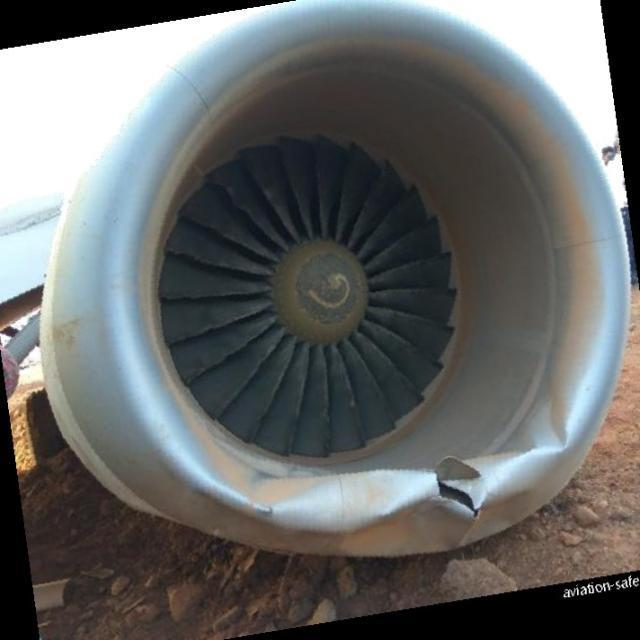crack: (438, 470, 480, 520)
dent: (264, 462, 434, 540), (513, 392, 578, 455)
